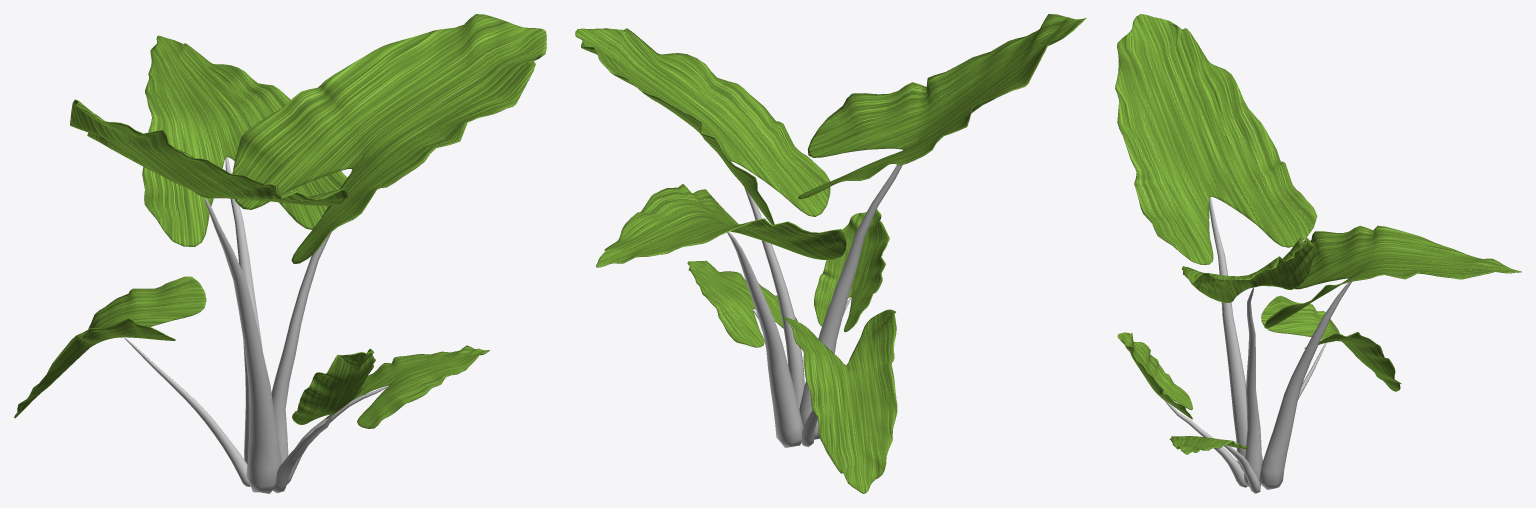
3 views of the same model, side by side, from view 1: azimuth 30°, elevation 25°; view 2: azimuth 150°, elevation 25°; view 3: azimuth 270°, elevation 25° (orthographic). The views are drawn at different scales.
Parts seen in each view (by area): view 1: Leaves, Branches; view 2: Leaves, Branches; view 3: Leaves, Branches.
Boxes of the visible parts, left/top/right/bottom form: Leaves: left=14, top=14, right=546, bottom=428; Branches: left=124, top=157, right=389, bottom=493; Leaves: left=575, top=14, right=1086, bottom=493; Branches: left=727, top=165, right=902, bottom=447; Leaves: left=1115, top=14, right=1521, bottom=454; Branches: left=1160, top=197, right=1351, bottom=493.
Size of the model in its own units: 48.67 by 44.03 by 42.88.
